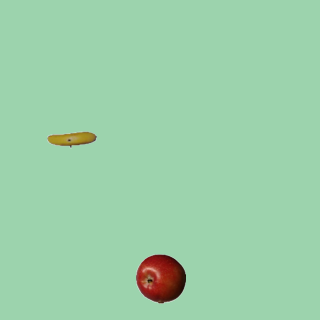Apple Braeburn: (135, 253, 185, 303)
Banana: (46, 114, 96, 164)
